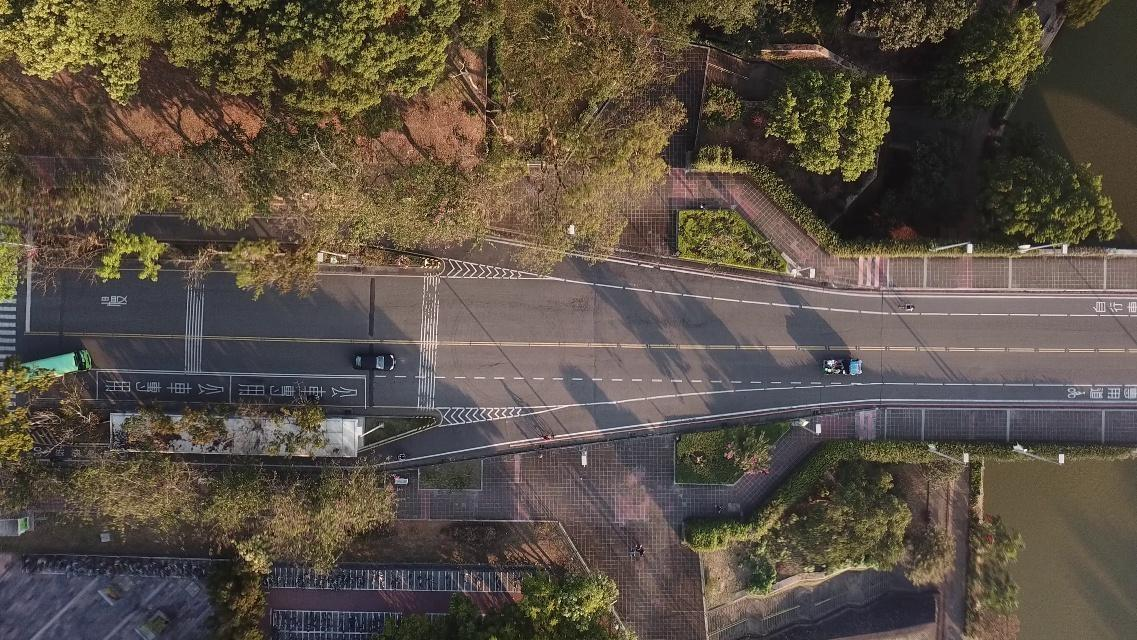Bus: (4, 350, 89, 388)
Car: (354, 351, 398, 374)
